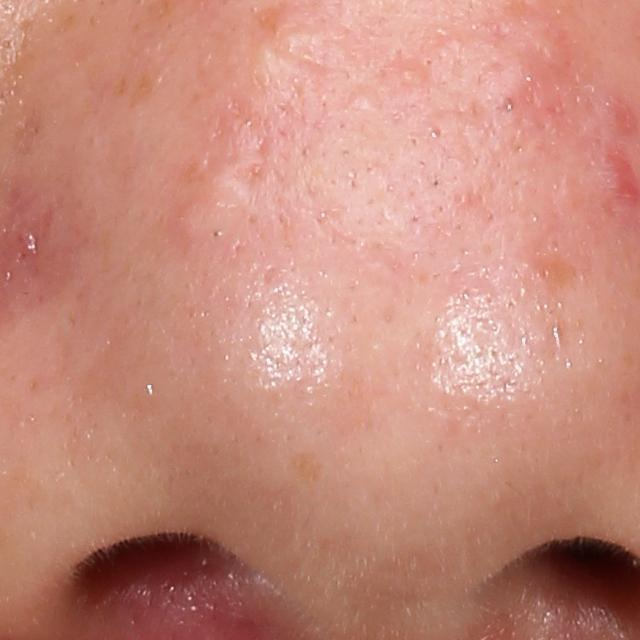hypertrophic_scar: (167, 113, 268, 253), (421, 32, 535, 115), (249, 3, 323, 87)
